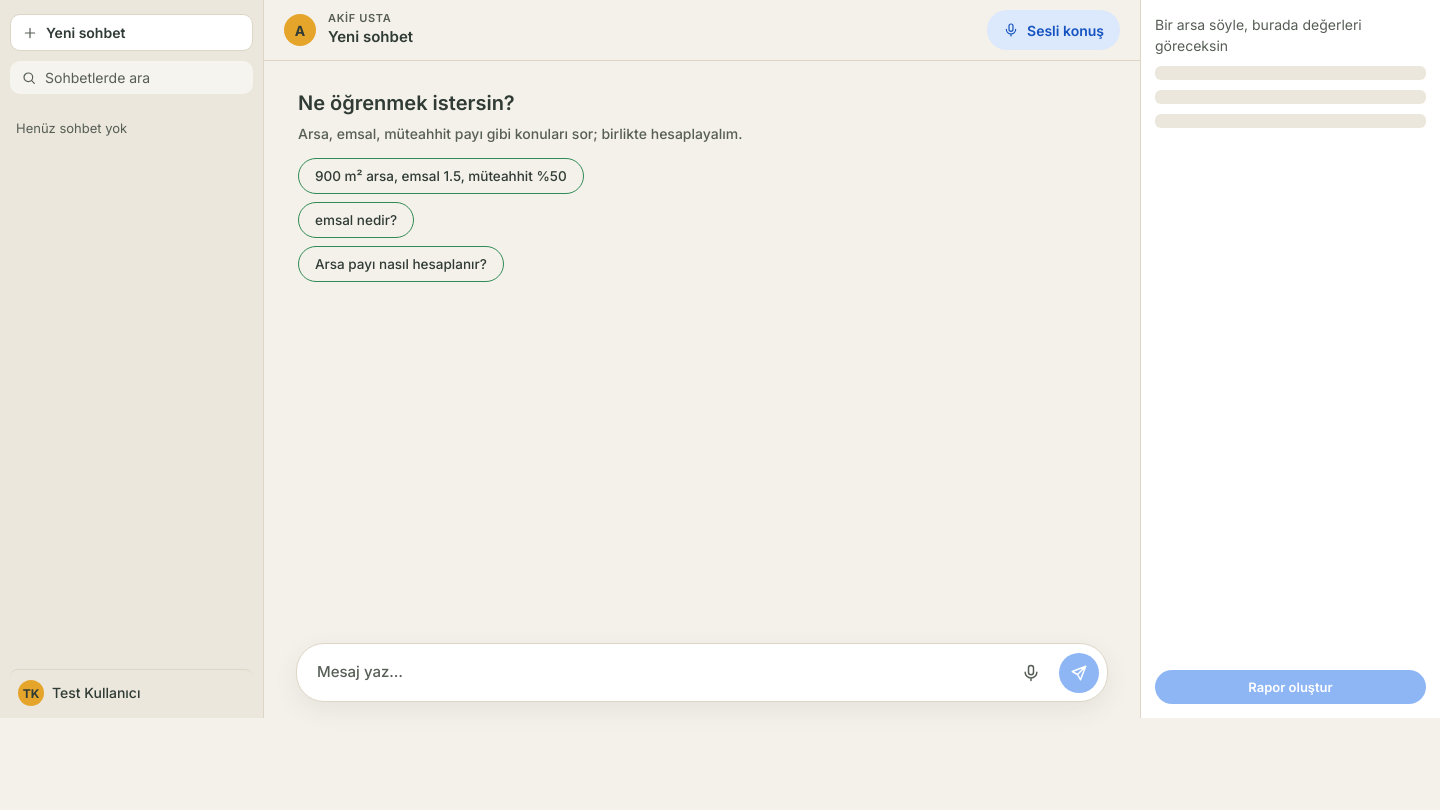
Test: kaydedilmemiş yeni sohbette başlık yalnız yerel değişir (PATCH yok)
The width and height of the screenshot is (1440, 810).
Click the button with aria-label "adını değiştir" at (371, 36), box [322,25,969,48]
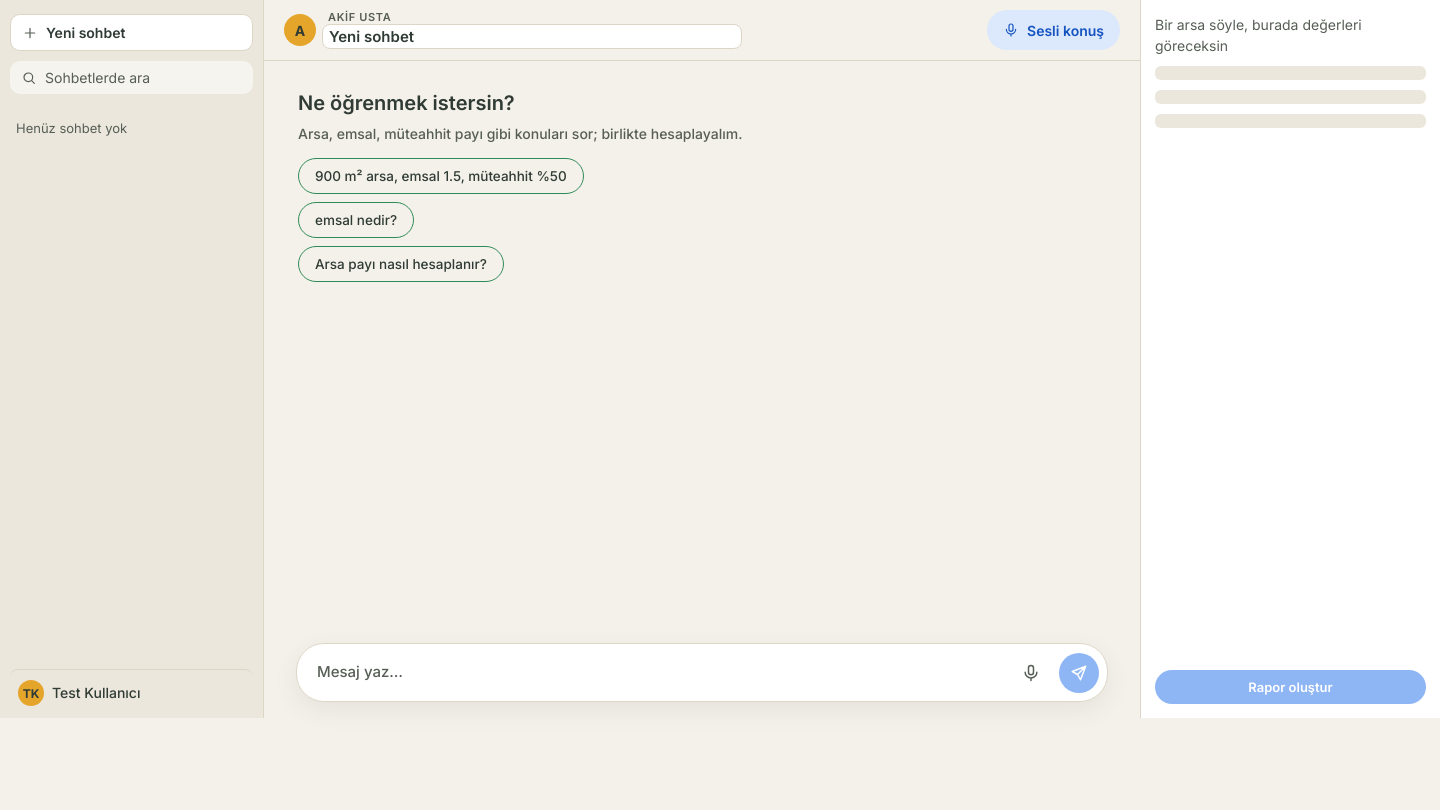
Replace the text in the field named "Sohbet başlığı" with "Taslak ad" at (532, 37), box [322,24,742,49]
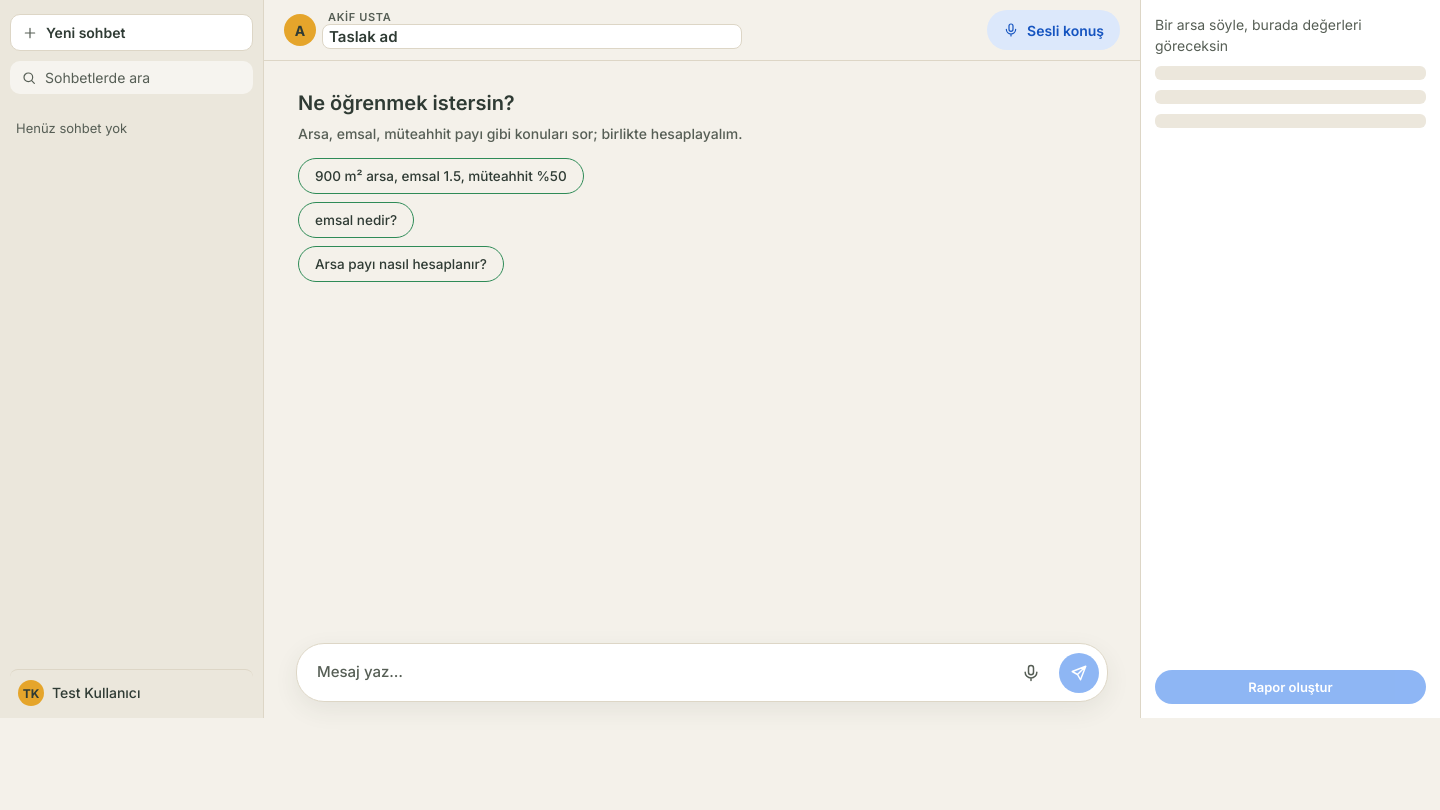
Press Enter in the field named "Sohbet başlığı", box [322,24,742,49]
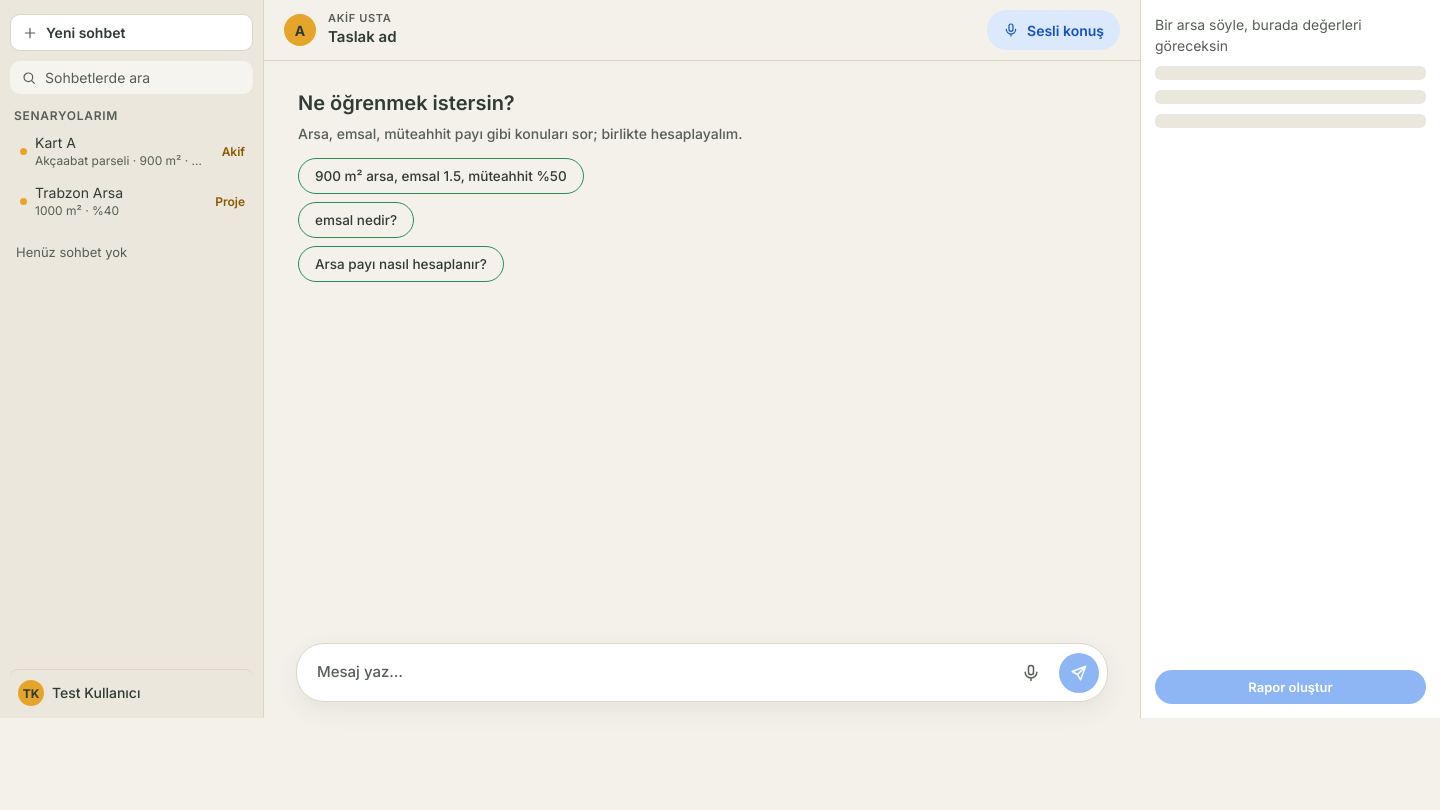
Expected: the button "Taslak ad" is shown, [322,25,969,48]
